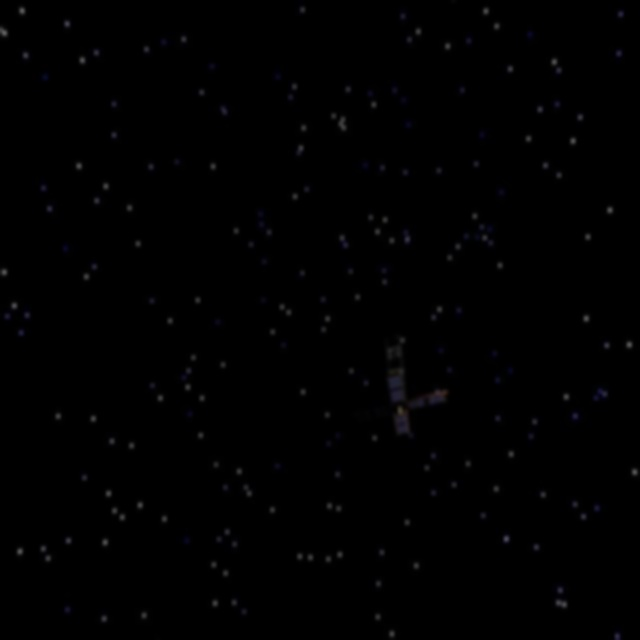medium_debris: (360, 338, 451, 440)
